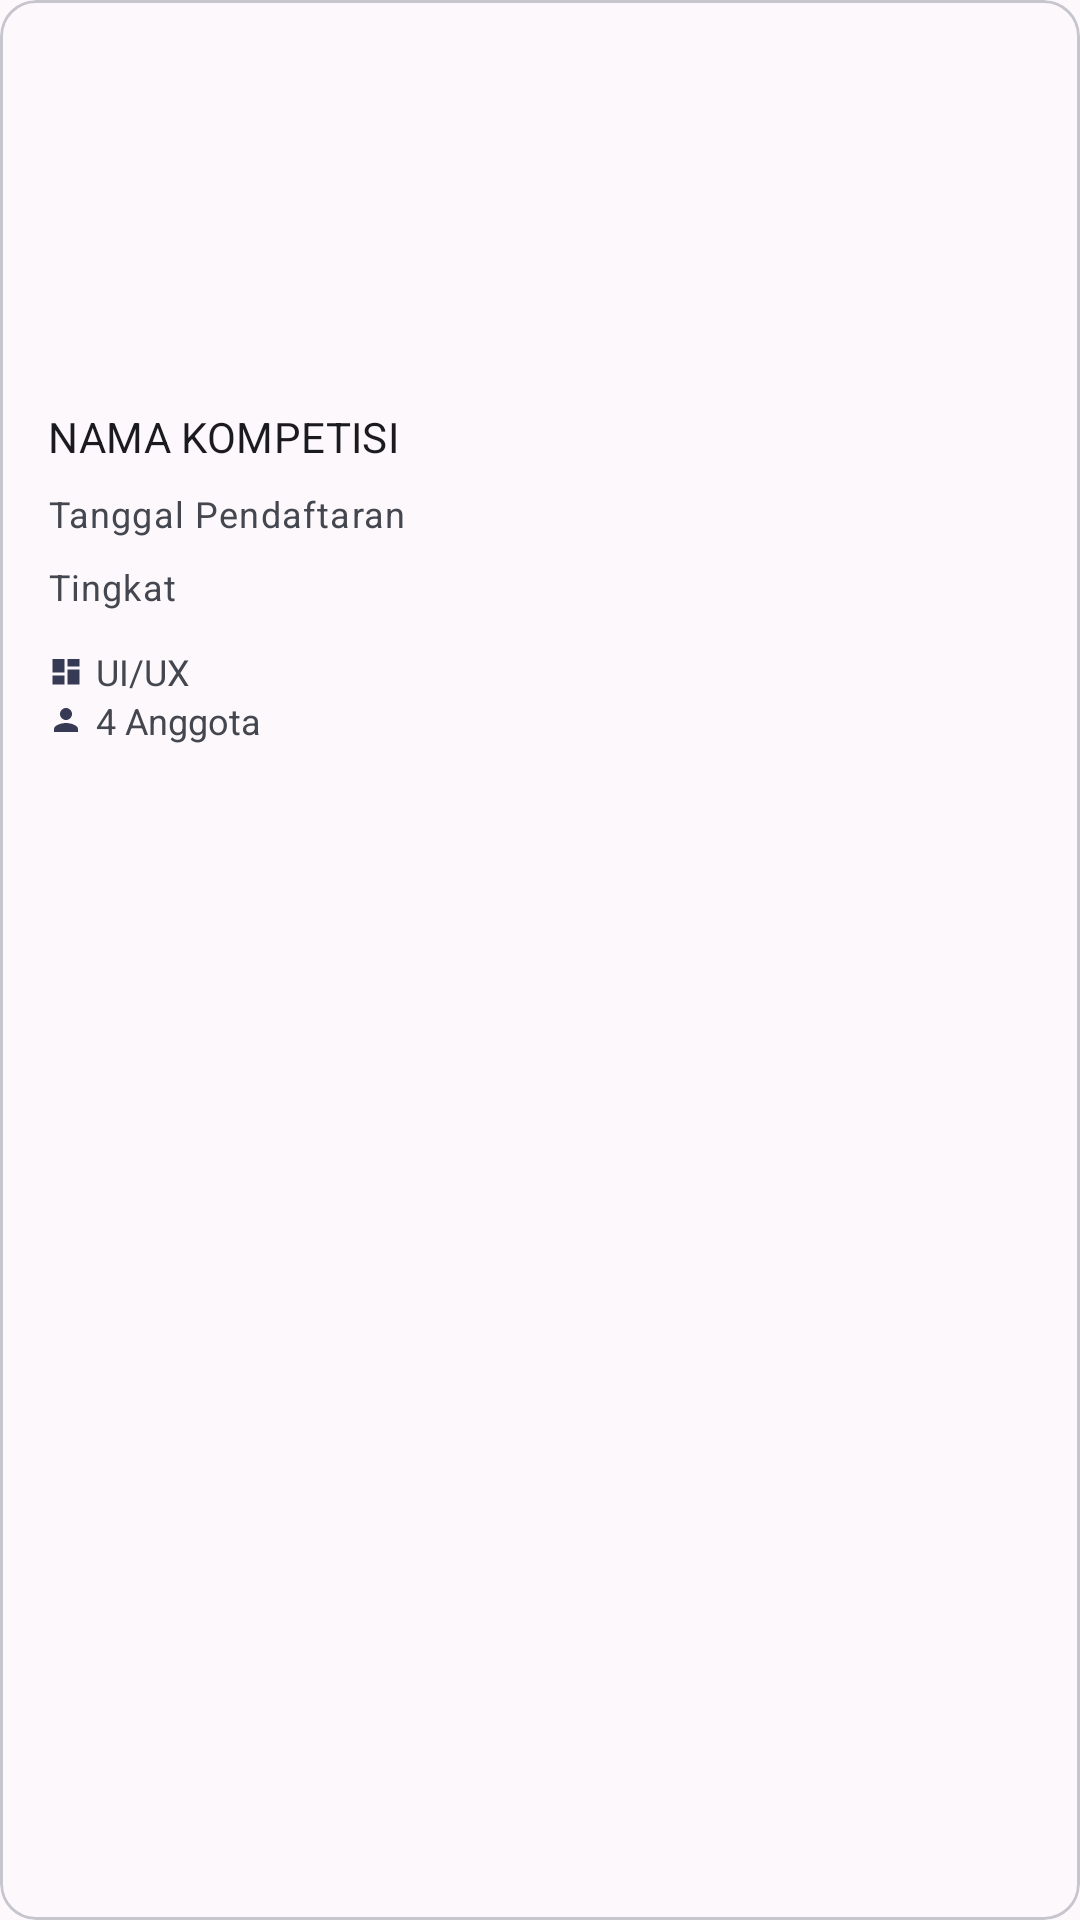

Icon bounding boxes for this 1080*1920 phone screenshot, format [left=x1, top=y1, right=x2, bottom=y2]:
person: [left=54, top=708, right=78, bottom=732]
